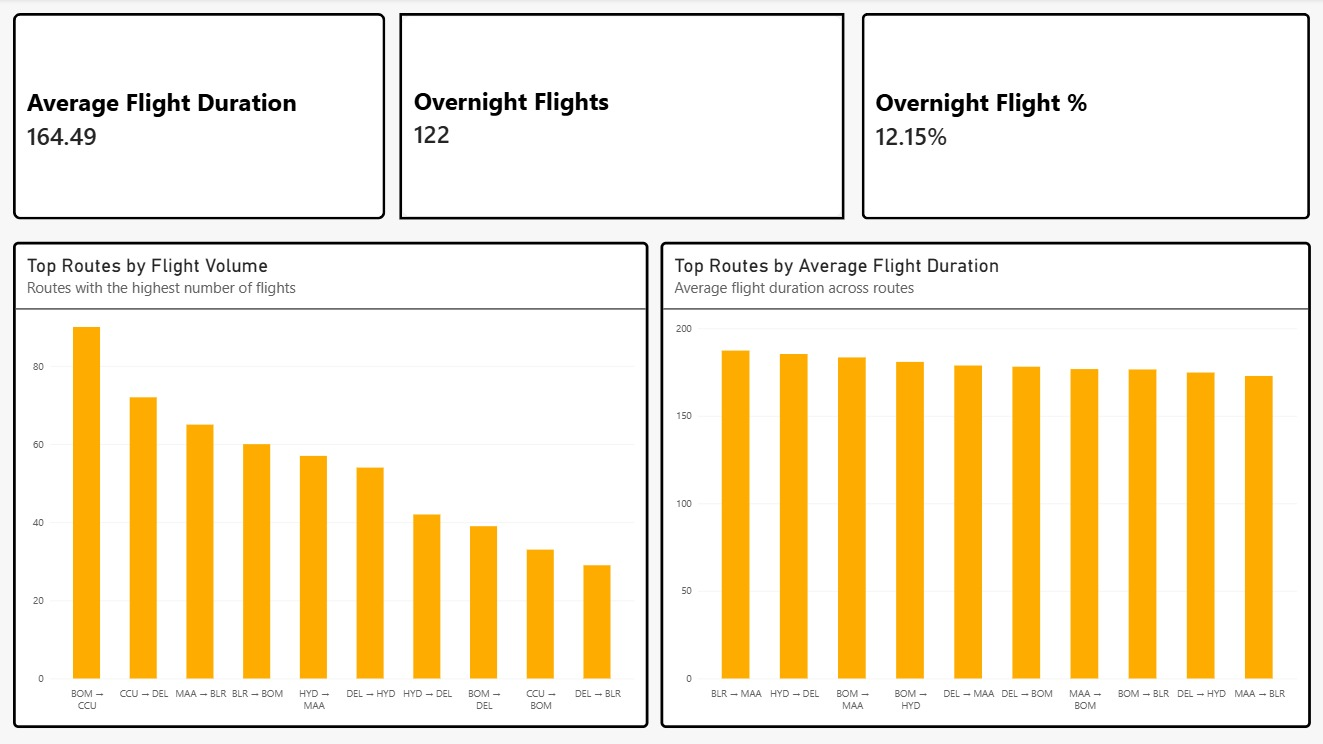

What the dashboard file says about the page in this screenshot:
{"tool":"powerbi","page":{"name":"Route Performance","canvas":[1920,1080],"ordinal":2},"visuals":[{"type":"clusteredColumnChart","title":"Top Routes by Flight Volume","fields":{"Category":["route_summary.route"],"Y":["Sum(route_summary.total_flights)"]},"box":[22.1,353.2,919.8,703.9],"z":0},{"type":"cardVisual","fields":{"Data":["fact_flights.Average Flight Duration"]},"box":[22.1,22.1,539.6,299.2],"z":1000},{"type":"cardVisual","fields":{"Data":["fact_flights.Overnight Flights"]},"box":[581.3,22.1,645.1,299.2],"z":2000},{"type":"cardVisual","fields":{"Data":["fact_flights.Overnight Flight %"]},"box":[1250.9,22.1,650,299.2],"z":3000},{"type":"clusteredColumnChart","title":"Top Routes by Average Flight Duration","fields":{"Category":["route_summary.route"],"Y":["Avg(route_summary.average_duration_minutes)"]},"box":[959,353.2,941.9,703.9],"z":4000}]}

Visuals, with their boxes in screenshot pixels (x1, y1, x2, y2), scaled from the page's 1920x1080 canvas onto the 1323x744 screenshot:
"Top Routes by Flight Volume" clusteredColumnChart: box=[15, 243, 649, 728]
cardVisual - fact_flights.Average Flight Duration: box=[15, 15, 387, 221]
cardVisual - fact_flights.Overnight Flights: box=[401, 15, 845, 221]
cardVisual - fact_flights.Overnight Flight %: box=[862, 15, 1310, 221]
"Top Routes by Average Flight Duration" clusteredColumnChart: box=[661, 243, 1310, 728]
